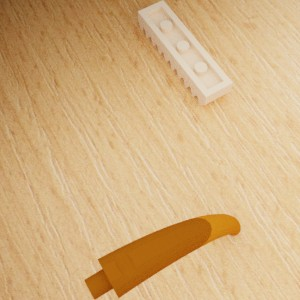lego: (84, 213, 240, 299), (137, 0, 233, 106)
